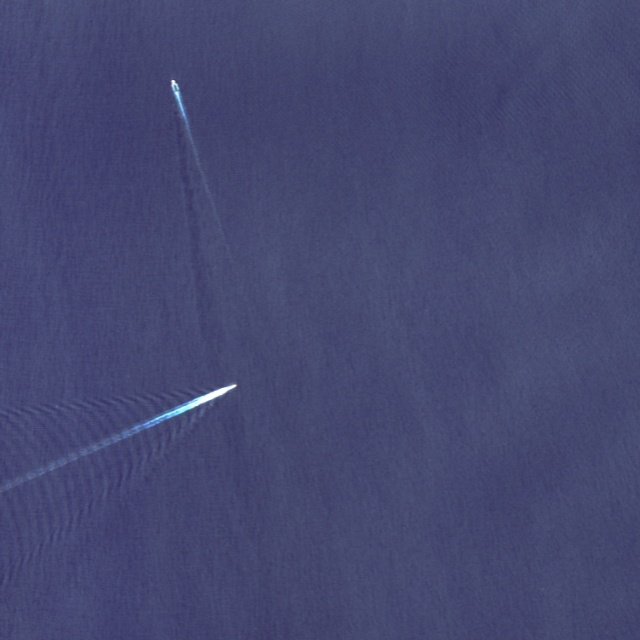wake: (16, 333, 268, 524)
